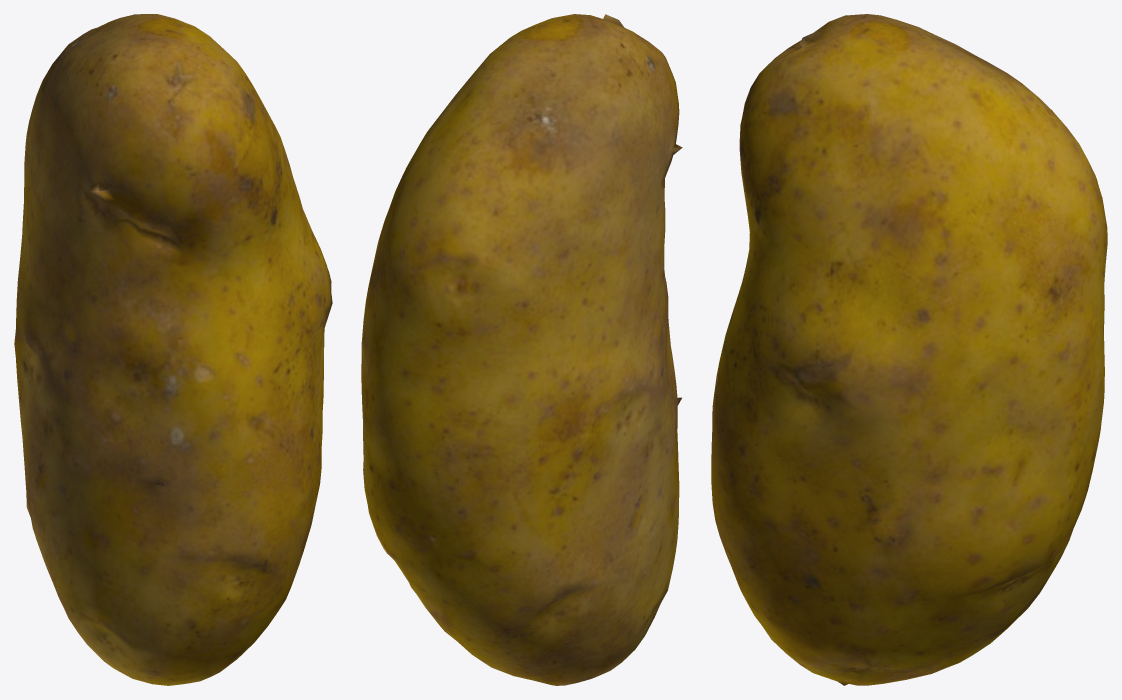
The model's file is raw-potato.glb.
3 views of the same model, side by side, from view 1: azimuth 30°, elevation 25°; view 2: azimuth 150°, elevation 25°; view 3: azimuth 270°, elevation 25° (orthographic).
Visible parts, largest first — view 1: potato_01_6850AE1B_Mid.001; view 2: potato_01_6850AE1B_Mid.001; view 3: potato_01_6850AE1B_Mid.001.
Boxes of the visible parts, box(x1,y1,x2,y2) form: potato_01_6850AE1B_Mid.001: box(14, 14, 332, 685); potato_01_6850AE1B_Mid.001: box(361, 14, 682, 685); potato_01_6850AE1B_Mid.001: box(711, 14, 1107, 685).
Size of the model in its own units: 0.0488 by 0.1171 by 0.0648.
1 material, 1 textured.
